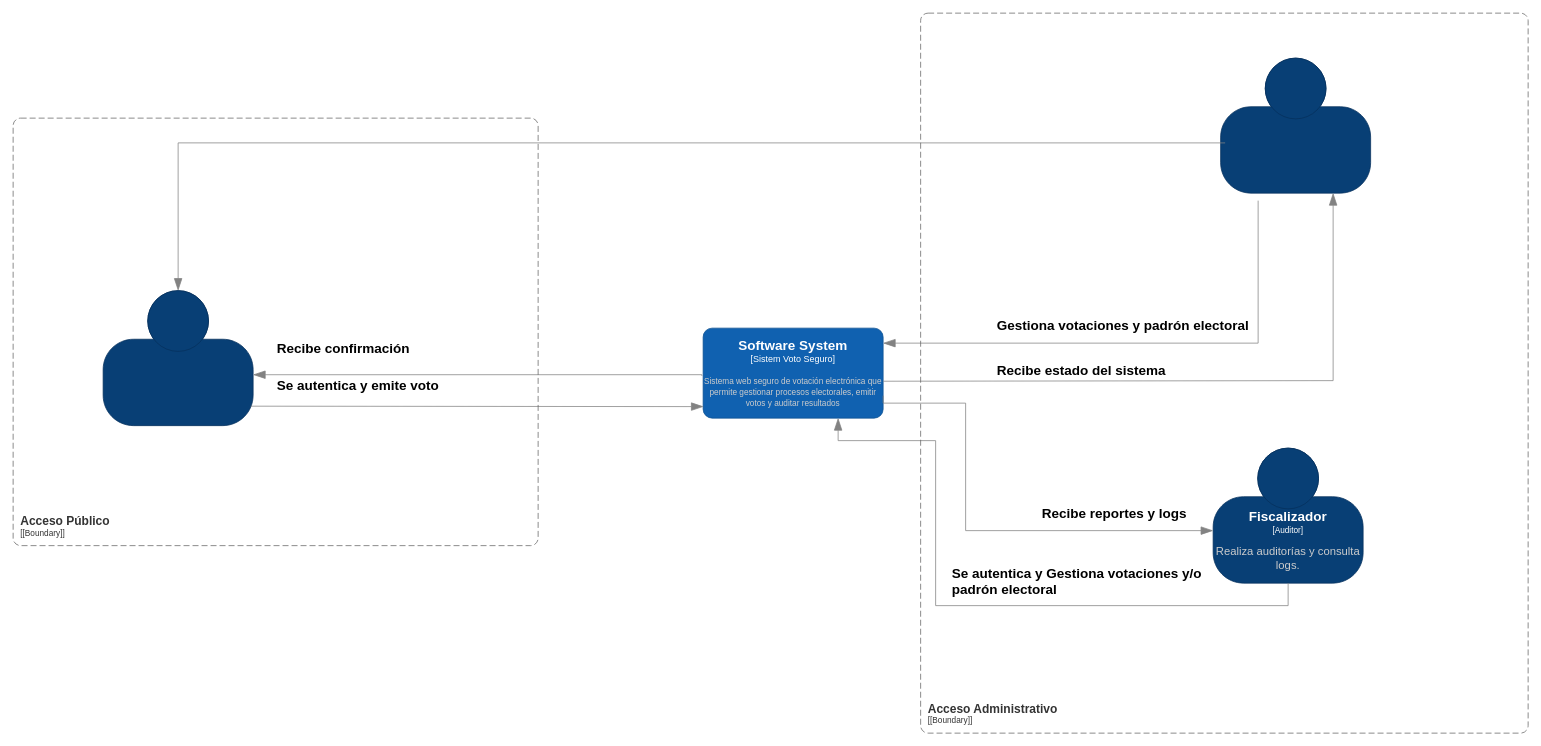
Image size: 1541x746. Some labels were removed from this diagram. The centre of each missing label's shape, as x and y in pixels:
Administrador [Gestión del sistema] Administra votación y padrón electoral: (1295,125)
Votante [Usuario final] Se autentica y emite votos: (177,358)
